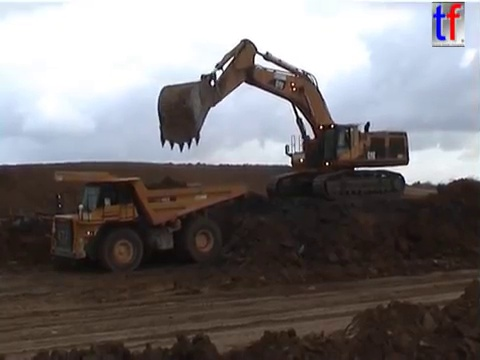excavator: (154, 35, 411, 203)
truck: (43, 168, 248, 273)
